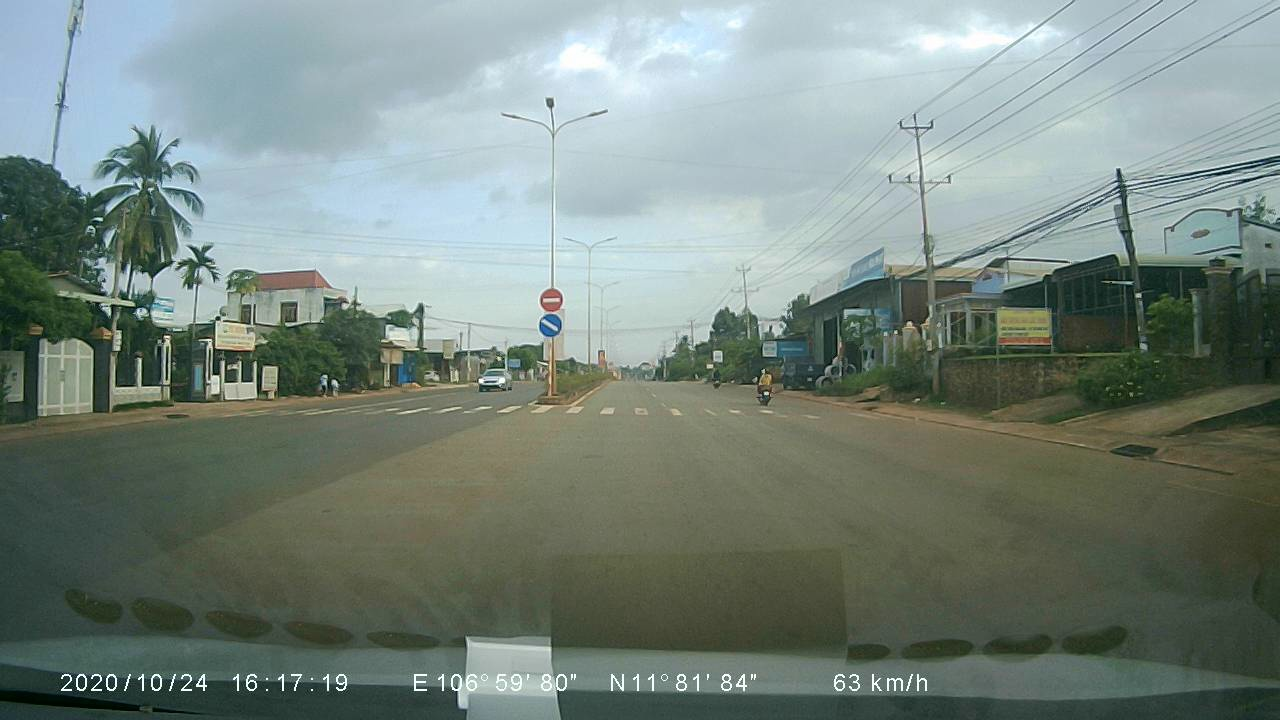Cam di nguoc chieu: (535, 282, 566, 311)
Huong di phai re phai: (537, 312, 565, 338)
